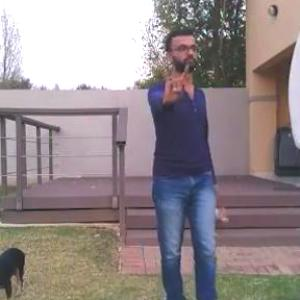takeoff-hand: (157, 62, 193, 104)
